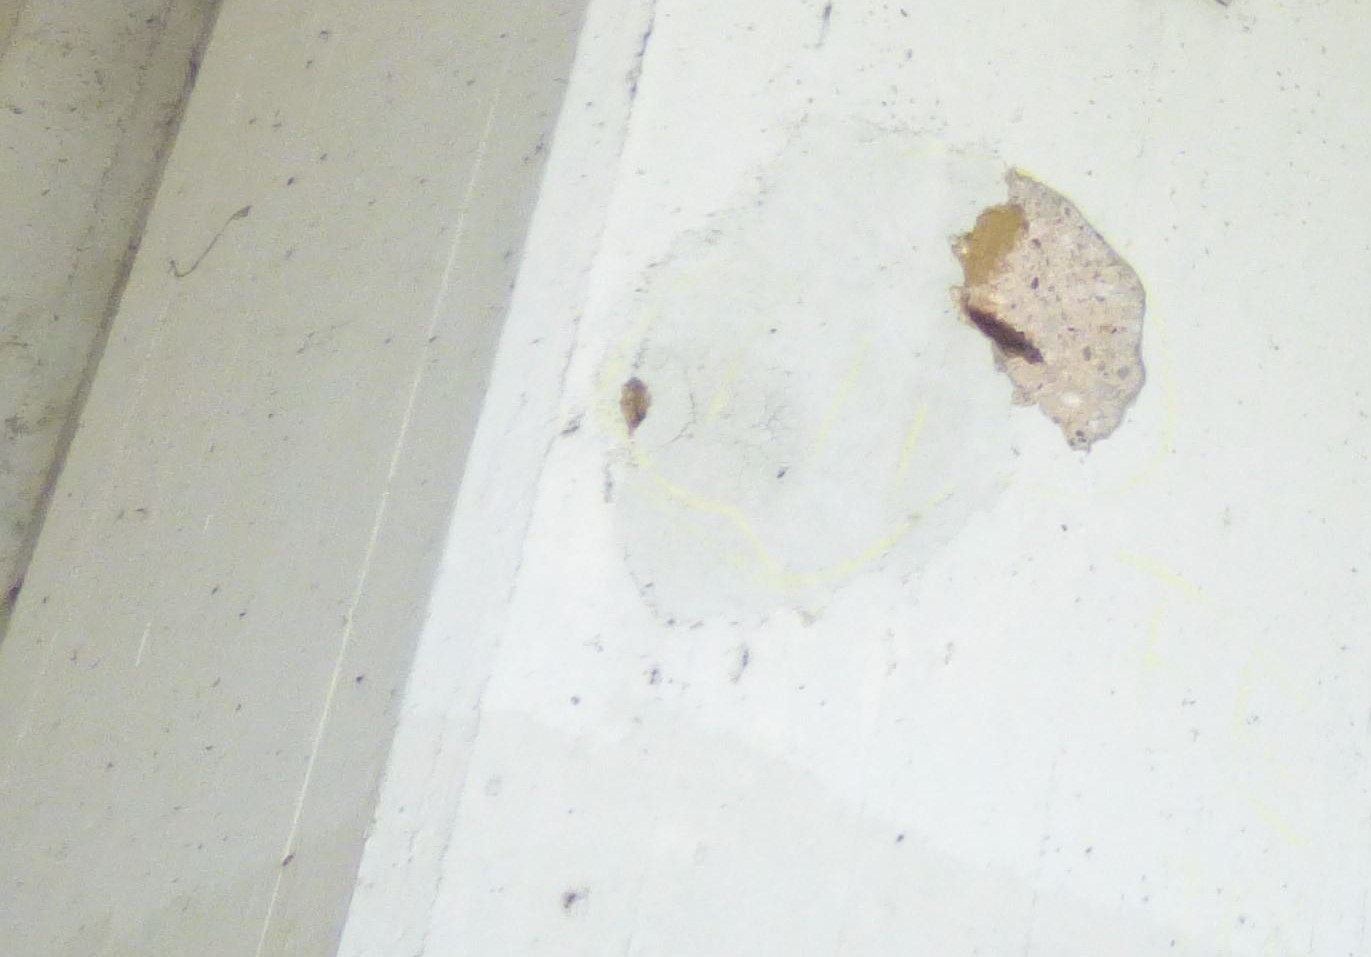Corrosion: (620, 378, 652, 436)
Exposed reinforcement: (966, 308, 1044, 366)
Spalling: (948, 166, 1149, 454)
